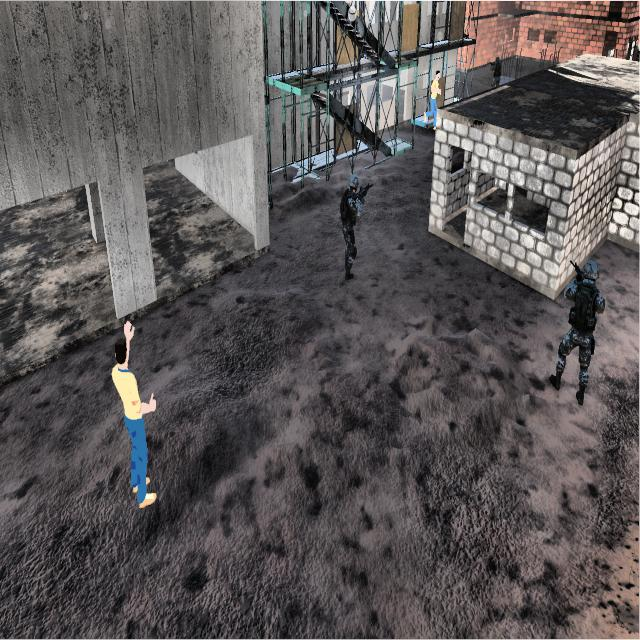bad: (549, 247, 608, 425), (331, 165, 372, 289), (488, 44, 504, 90)
good: (104, 313, 162, 516), (418, 60, 444, 136)
